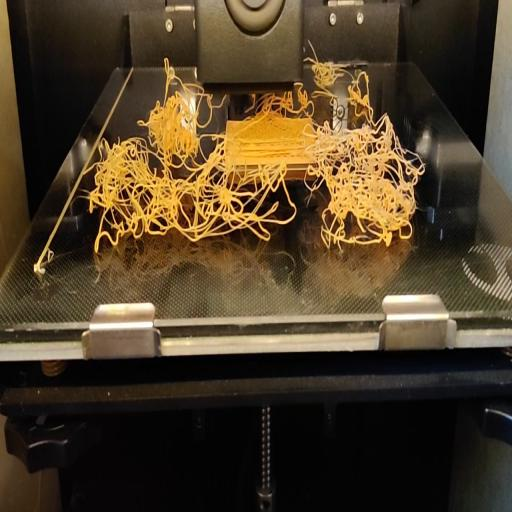spaghetti: (85, 94, 427, 262), (305, 38, 374, 96), (160, 54, 199, 95)
